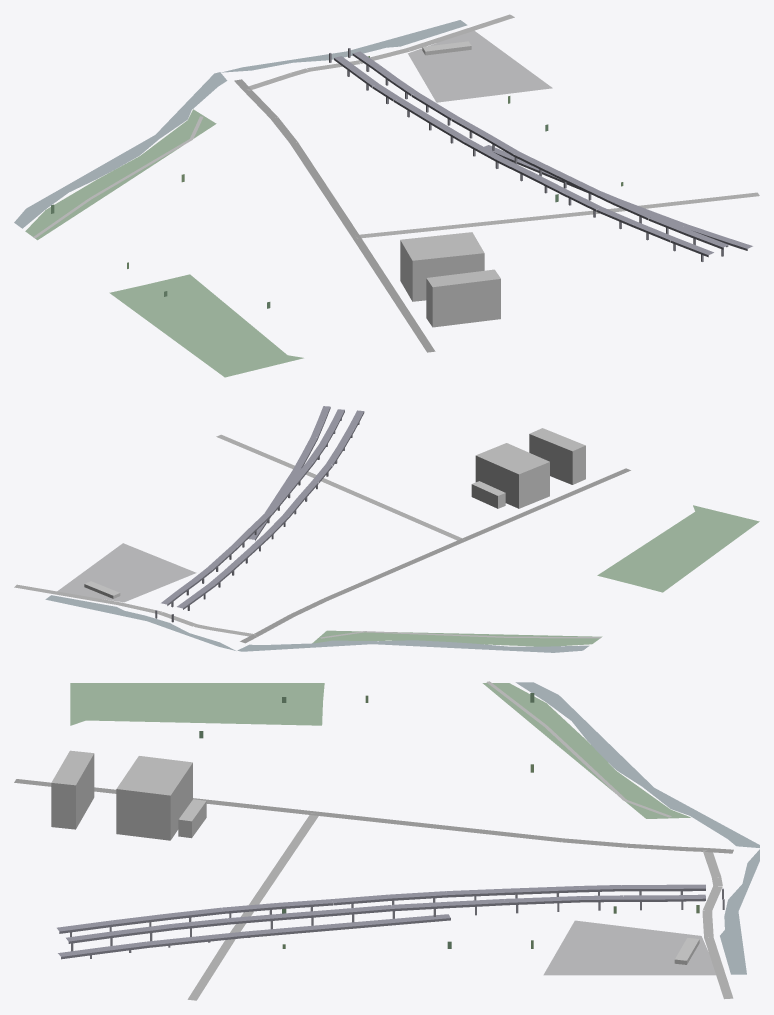
3 views of the same model, one above another, from view 1: azimuth 30°, elevation 25°; view 2: azimuth 150°, elevation 25°; view 3: azimuth 270°, elevation 25° (orthographic). The views are drawn at different scales.
Bounding box in the file's own units: 545 × 38.16 × 541.
